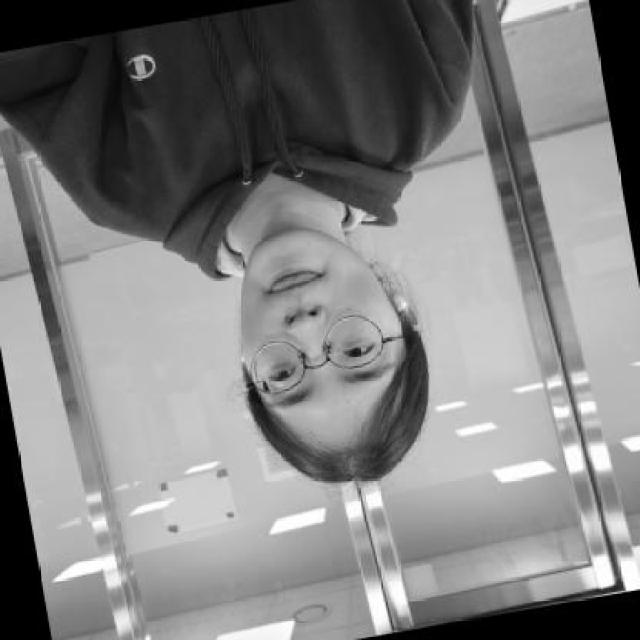earphone: (385, 286, 433, 329)
